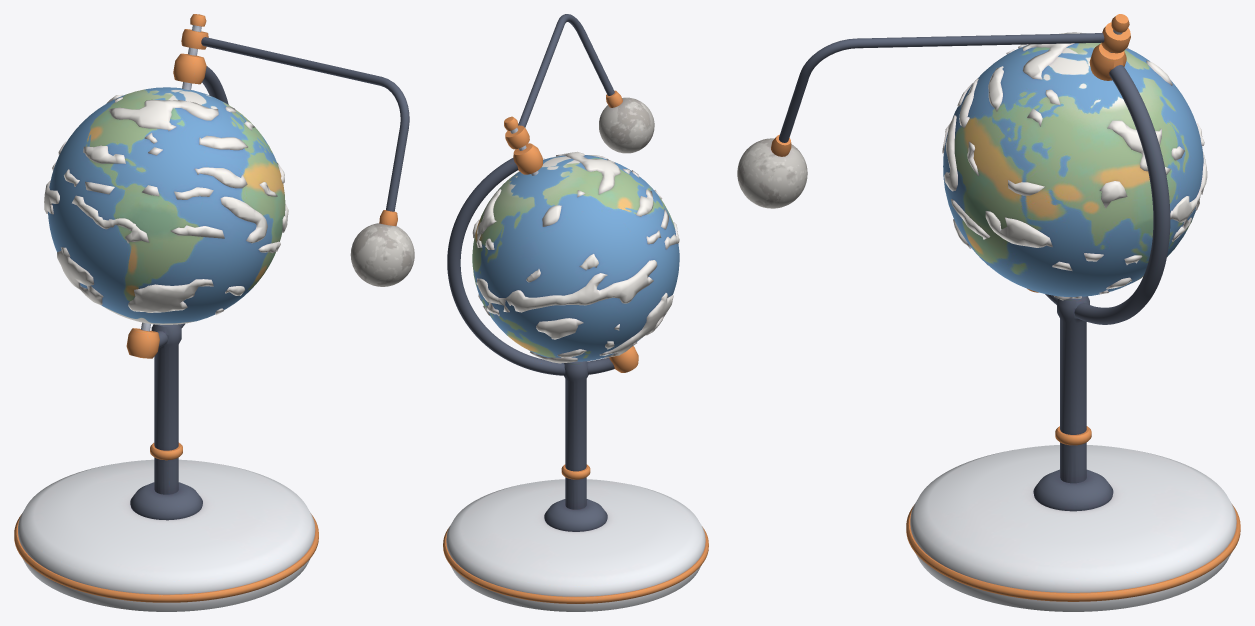
The model's file is earth-and-moon.glb.
The picture shows the model from 3 angles, left to right: view 1: azimuth 30°, elevation 25°; view 2: azimuth 150°, elevation 25°; view 3: azimuth 270°, elevation 25°; orthographic projection. The views are drawn at different scales.
Parts seen in each view (by area): view 1: earth-and-moon_sphere, earth-and-moon_body, earth-and-moon_orbit_arm; view 2: earth-and-moon_body, earth-and-moon_sphere, earth-and-moon_orbit_arm; view 3: earth-and-moon_body, earth-and-moon_sphere, earth-and-moon_orbit_arm.
Part boxes in pixels (<box>): earth-and-moon_sphere: <box>44,87,288,324</box>; earth-and-moon_body: <box>14,14,318,611</box>; earth-and-moon_orbit_arm: <box>181,29,414,286</box>; earth-and-moon_body: <box>443,116,708,611</box>; earth-and-moon_sphere: <box>472,151,679,363</box>; earth-and-moon_orbit_arm: <box>505,14,654,153</box>; earth-and-moon_body: <box>906,14,1240,611</box>; earth-and-moon_sphere: <box>942,32,1207,300</box>; earth-and-moon_orbit_arm: <box>737,22,1130,208</box>.
Bounding box in the file's own units: 0.2256 × 0.4281 × 0.3395.
3 materials, 3 textured.
